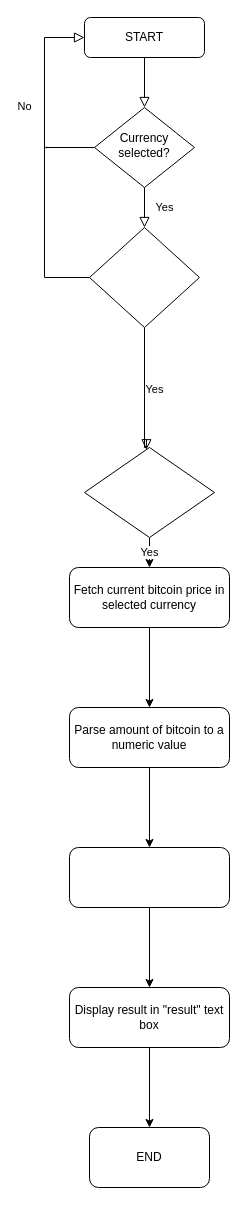
Some shapes in this 247 by 1205 pixel diagram are drawn without their labels. Each missing label, with the centre of its shape:
Amount of bitcoin entered?: point (144, 277)
Is "Get rates" button clicked?: point (149, 492)
Multiply bitcoin amount by it's price: point (149, 877)
